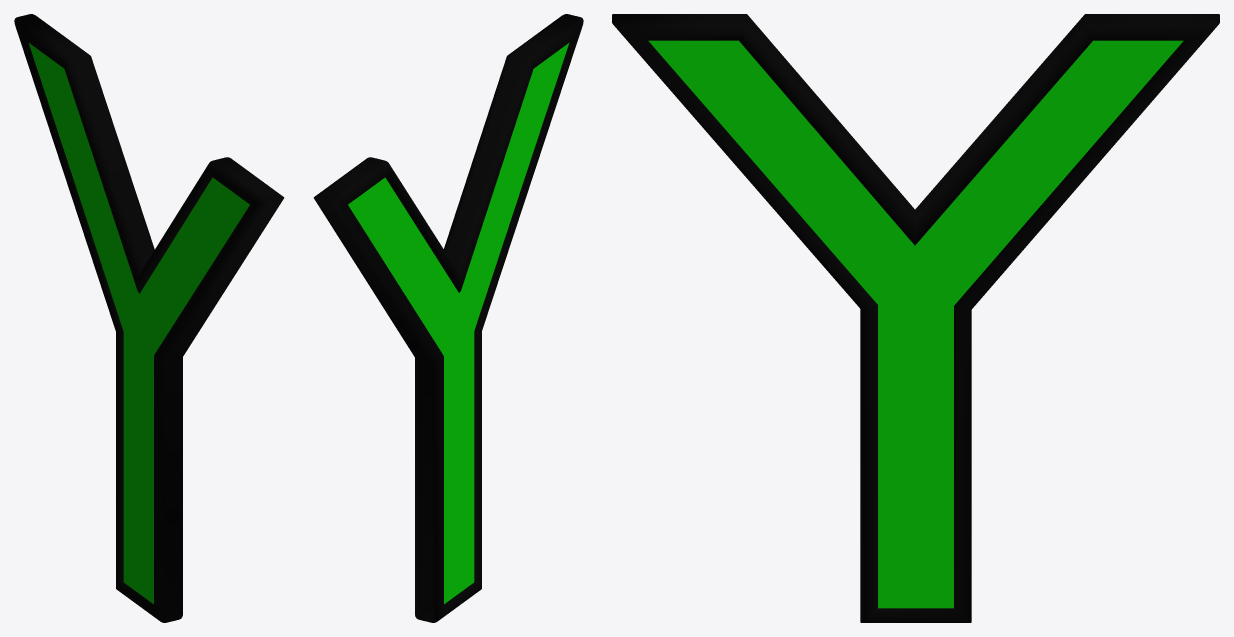
File: yLetter.fbx
3 views of the same model, side by side, from view 1: azimuth 30°, elevation 25°; view 2: azimuth 150°, elevation 25°; view 3: azimuth 270°, elevation 25° (orthographic). The views are drawn at different scales.
Parts seen in each view (by area): view 1: Y; view 2: Y; view 3: Y.
Boxes of the visible parts, x1,y1,x2,y2 form: Y: (14, 14, 284, 622); Y: (313, 14, 583, 622); Y: (612, 14, 1219, 622).
Size of the model in its own units: 0.08 by 1.4 by 1.29.
